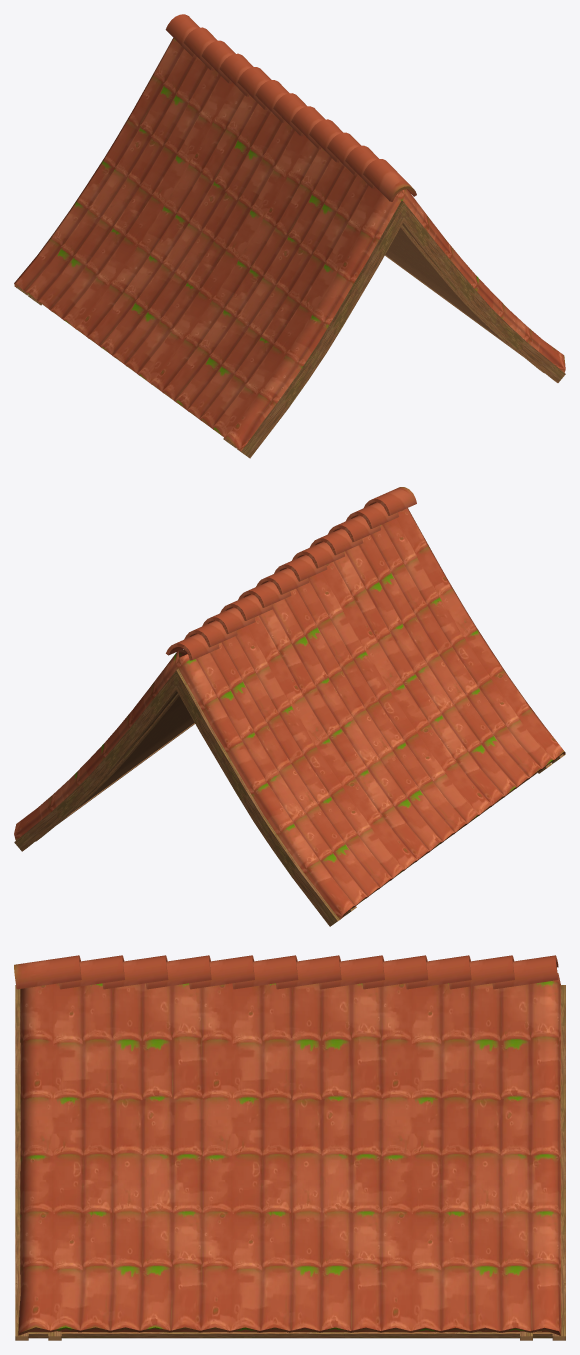
File: roof_roundtiles_6x8.glb
3 views of the same model, one above another, from view 1: azimuth 30°, elevation 25°; view 2: azimuth 150°, elevation 25°; view 3: azimuth 270°, elevation 25° (orthographic). The views are drawn at different scales.
Bounding box in the file's own units: 8.25 × 5.67 × 9.68.
2 materials, 2 textured.
